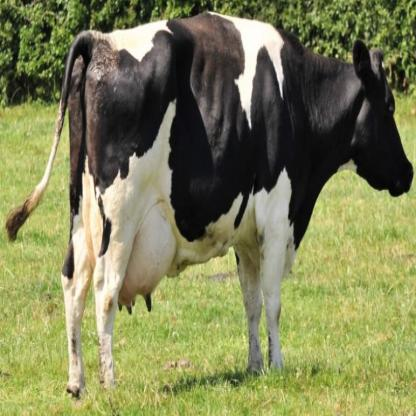cow: (9, 14, 412, 395)
